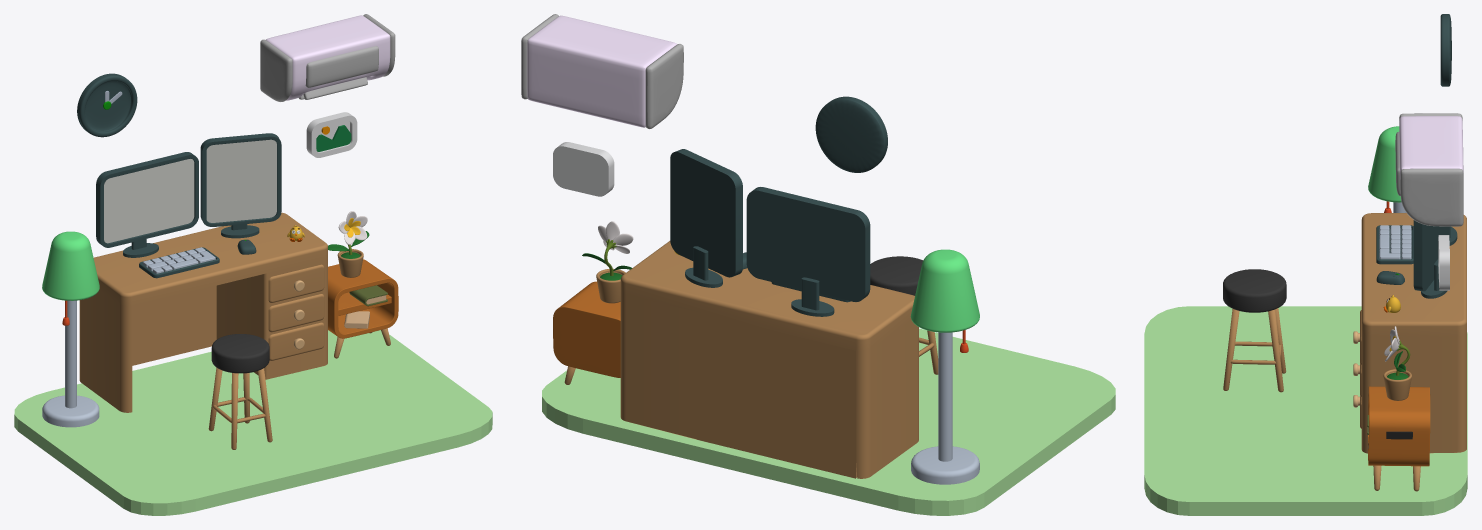
The model's file is my-office.glb.
The picture shows the model from 3 angles, left to right: view 1: azimuth 30°, elevation 25°; view 2: azimuth 150°, elevation 25°; view 3: azimuth 270°, elevation 25°; orthographic projection. The views are drawn at different scales.
Visible parts, largest first — view 1: Plane, Table, Monitor - 1, Monitor - 2, Stand-lamp, Cube.011, Chair, Meez, Wall-Clock, Cube.015, Wall-Picture, Cube.014 (+3 smaller); view 2: Table, Plane, Monitor - 1, Cube.011, Stand-lamp, Monitor - 2, Meez, Wall-Clock, Cube.015, Wall-Picture, Chair, FlowerPot; view 3: Plane, Table, Meez, Chair, Cube.015, Cube.011, Monitor - 2, Stand-lamp, Keyboard, FlowerPot, Wall-Clock, Wall-Picture (+1 smaller).
Boxes of the visible parts, box(x1,y1,x2,y2) form: Plane: box(14, 330, 492, 515); Table: box(79, 212, 327, 412); Monitor - 1: box(96, 152, 198, 257); Monitor - 2: box(200, 133, 281, 238); Stand-lamp: box(42, 231, 99, 427); Cube.011: box(266, 15, 390, 100); Chair: box(208, 334, 272, 449); Meez: box(328, 259, 398, 338); Wall-Clock: box(77, 73, 137, 137); Cube.015: box(260, 14, 395, 101); Wall-Picture: box(306, 112, 357, 157); Cube.014: box(305, 46, 378, 87); Table: box(620, 241, 918, 478); Plane: box(542, 328, 1115, 515); Monitor - 1: box(746, 187, 870, 316); Cube.011: box(527, 15, 677, 127); Stand-lamp: box(910, 249, 979, 484); Monitor - 2: box(670, 149, 742, 287); Meez: box(553, 281, 620, 377); Wall-Clock: box(815, 96, 887, 172); Cube.015: box(521, 14, 683, 129); Wall-Picture: box(553, 142, 614, 196); Chair: box(870, 256, 938, 374); FlowerPot: box(582, 221, 633, 303); Plane: box(1144, 306, 1467, 515); Table: box(1353, 213, 1466, 453); Meez: box(1368, 386, 1430, 466); Chair: box(1223, 269, 1286, 392); Cube.015: box(1399, 113, 1463, 226); Cube.011: box(1399, 116, 1463, 179); Monitor - 2: box(1413, 220, 1449, 298); Stand-lamp: box(1368, 126, 1406, 212); Keyboard: box(1376, 225, 1413, 264); FlowerPot: box(1383, 326, 1411, 400); Wall-Clock: box(1440, 14, 1451, 86); Wall-Picture: box(1438, 235, 1449, 290).
Bounding box in the file's own units: 3.37 × 2.83 × 2.32.
